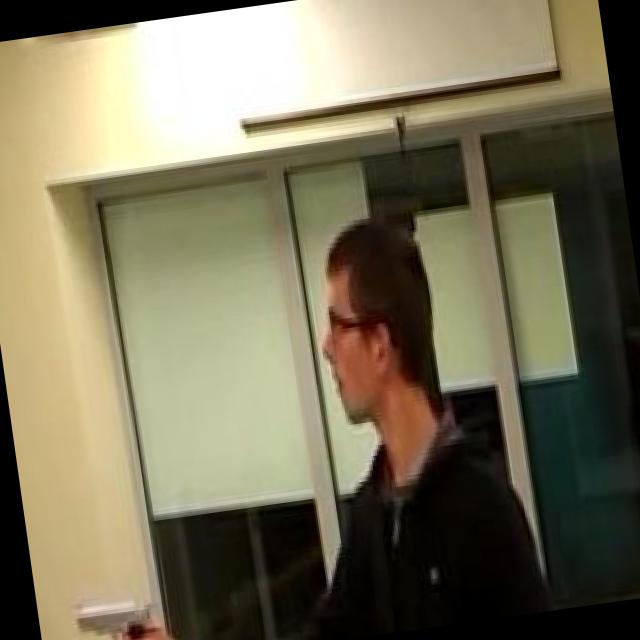Guns: (57, 579, 182, 640)
